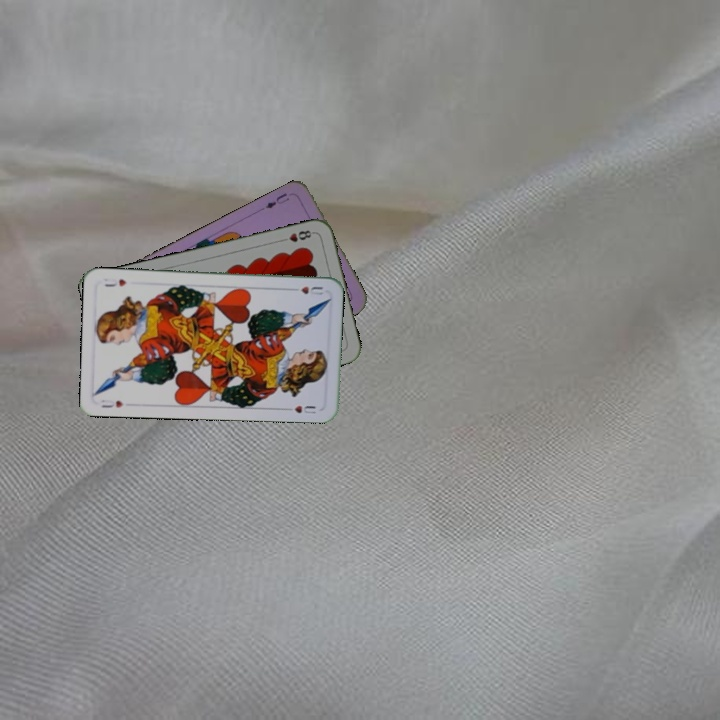EU: (261, 189, 292, 211)
H8: (277, 226, 316, 245)
HU: (287, 282, 326, 297), (97, 396, 126, 410)
